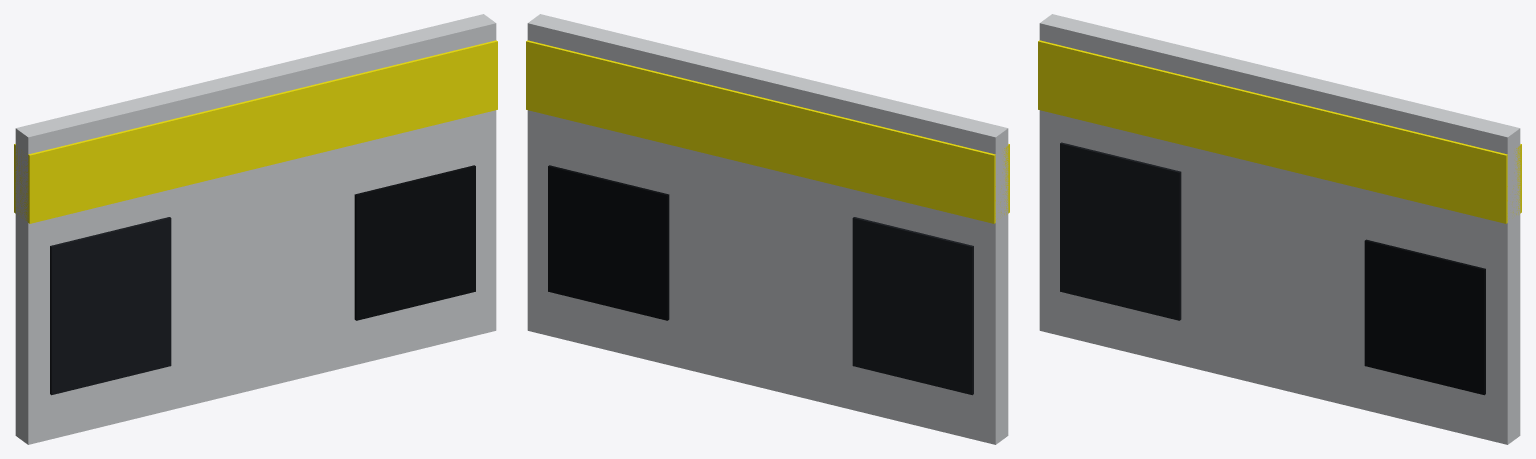
The model's file is badge.glb.
The picture shows the model from 3 angles, left to right: view 1: azimuth 30°, elevation 25°; view 2: azimuth 150°, elevation 25°; view 3: azimuth 330°, elevation 25°; orthographic projection.
Parts seen in each view (by area): view 1: Body; view 2: Body; view 3: Body.
Boxes of the visible parts, left/top/right/bottom form: Body: left=14, top=14, right=497, bottom=444; Body: left=526, top=14, right=1009, bottom=444; Body: left=1038, top=14, right=1521, bottom=444.
Bounding box in the file's own units: 0.086 × 0.054 × 0.005.
